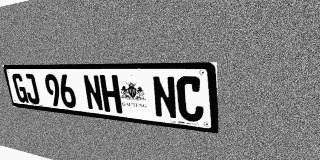6: (57, 74, 77, 109)
9: (43, 74, 63, 107)
C: (176, 76, 204, 123)
G: (11, 73, 29, 103)
H: (99, 75, 122, 114)
J: (22, 74, 40, 104)
N: (151, 76, 178, 120), (82, 75, 104, 112)
